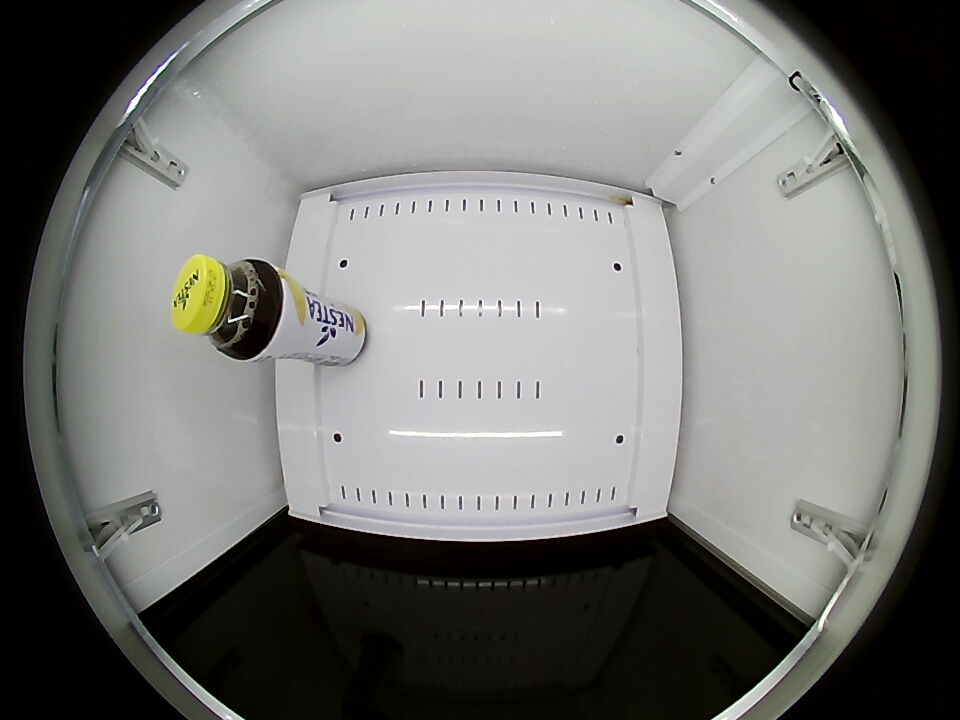chacui: (172, 255, 281, 360)
